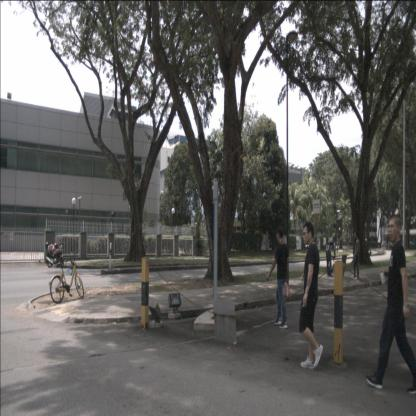human-pedestrian-adult: (366, 215, 416, 396), (298, 221, 324, 370), (264, 225, 292, 329), (351, 231, 361, 280), (325, 236, 336, 278)
vehicle-bicycle: (50, 249, 84, 303)
vehicle-motorcycle: (46, 240, 64, 268)
